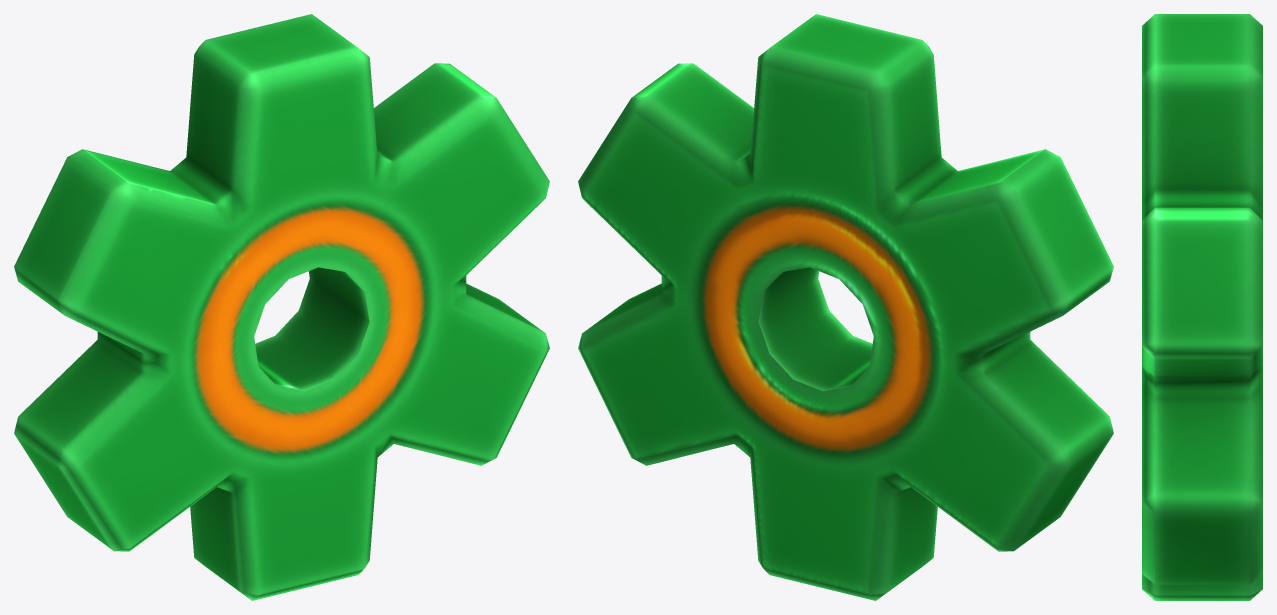
Rendered from obj_toy01.gltf.
3 views of the same model, side by side, from view 1: azimuth 30°, elevation 25°; view 2: azimuth 150°, elevation 25°; view 3: azimuth 270°, elevation 25° (orthographic).
Parts seen in each view (by area): view 1: obj_toy01; view 2: obj_toy01; view 3: obj_toy01.
Boxes of the visible parts, x1,y1,x2,y2 form: obj_toy01: (14,14,549,600); obj_toy01: (578,14,1113,600); obj_toy01: (1142,14,1262,600).
Bounding box in the file's own units: 0.5041 × 0.5188 × 0.1064.
Materials: 1 (1 with a texture image).
